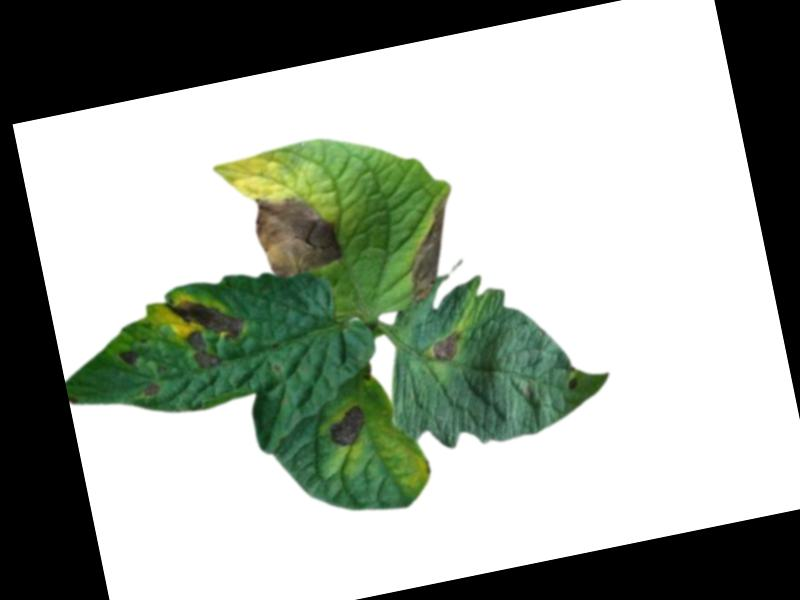Early_blight: (393, 190, 473, 305), (248, 185, 338, 284), (161, 287, 253, 377), (324, 403, 373, 449), (430, 331, 465, 365), (117, 345, 143, 370), (142, 381, 163, 400), (567, 376, 579, 393)
